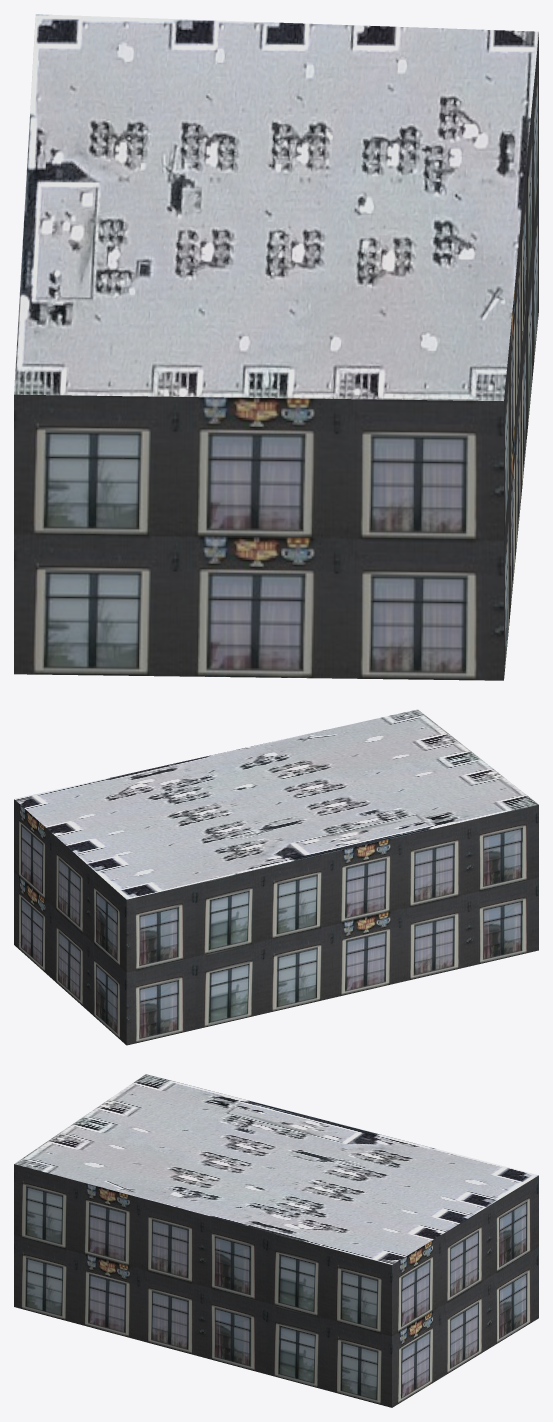
Rendered from ResTex__5139.fbx.
3 renders of one model, top to bottom at view 1: azimuth 30°, elevation 25°; view 2: azimuth 150°, elevation 25°; view 3: azimuth 270°, elevation 25°, orthographic. The views are drawn at different scales.
Visible parts, largest first — view 1: CityEngineMaterial_8_m, CityEngineMaterial_22_m; view 2: CityEngineMaterial_22_m, CityEngineMaterial_8_m; view 3: CityEngineMaterial_22_m, CityEngineMaterial_8_m.
Boxes of the visible parts, left/top/right/bottom form: CityEngineMaterial_8_m: left=14, top=14, right=538, bottom=400; CityEngineMaterial_22_m: left=14, top=33, right=538, bottom=680; CityEngineMaterial_22_m: left=14, top=799, right=538, bottom=1045; CityEngineMaterial_8_m: left=14, top=709, right=538, bottom=899; CityEngineMaterial_22_m: left=14, top=1164, right=538, bottom=1407; CityEngineMaterial_8_m: left=14, top=1074, right=538, bottom=1264.
Bounding box in the file's own units: 17.2 × 6 × 19.98.
Materials: 2 (2 with a texture image).
